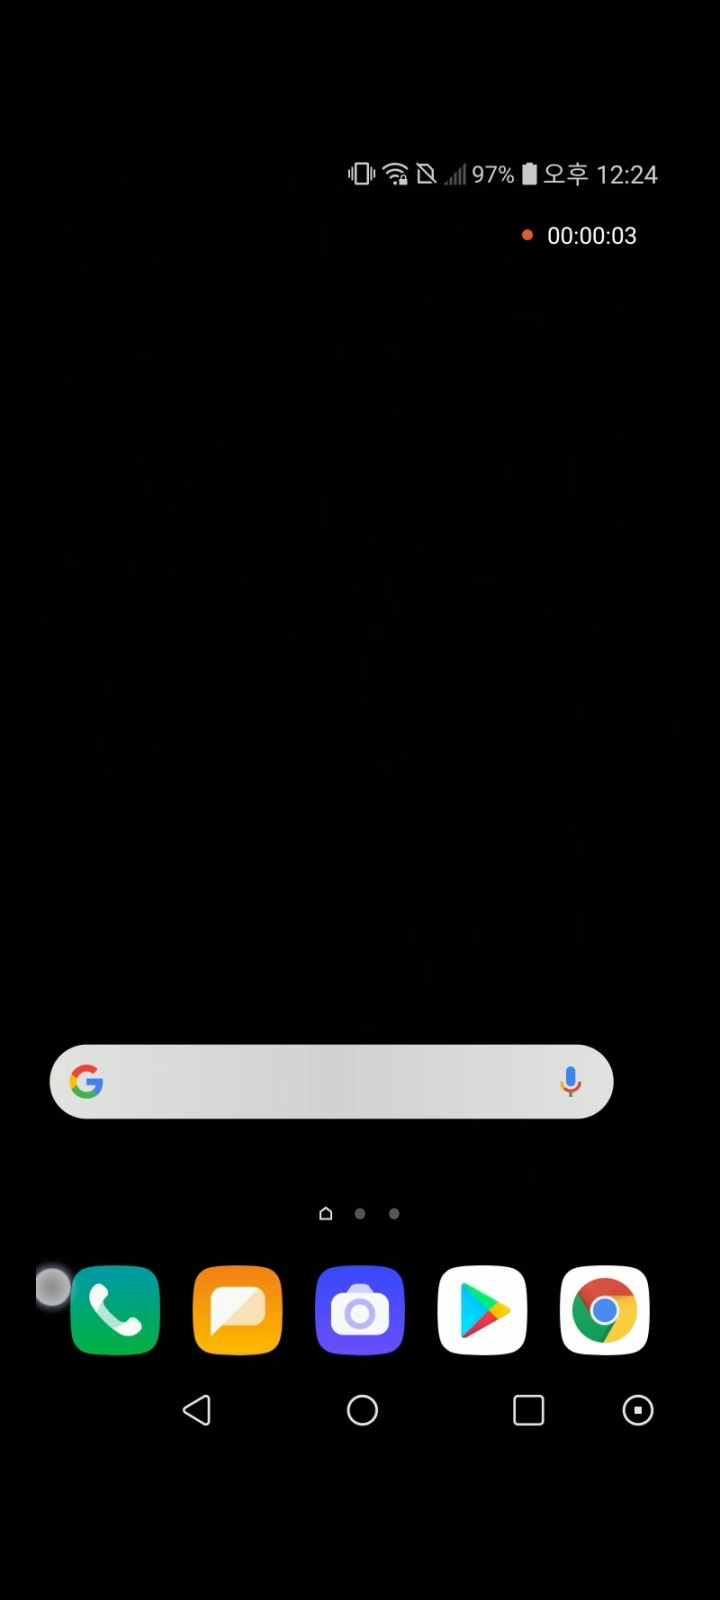Cursor: (37, 1268, 76, 1313)
